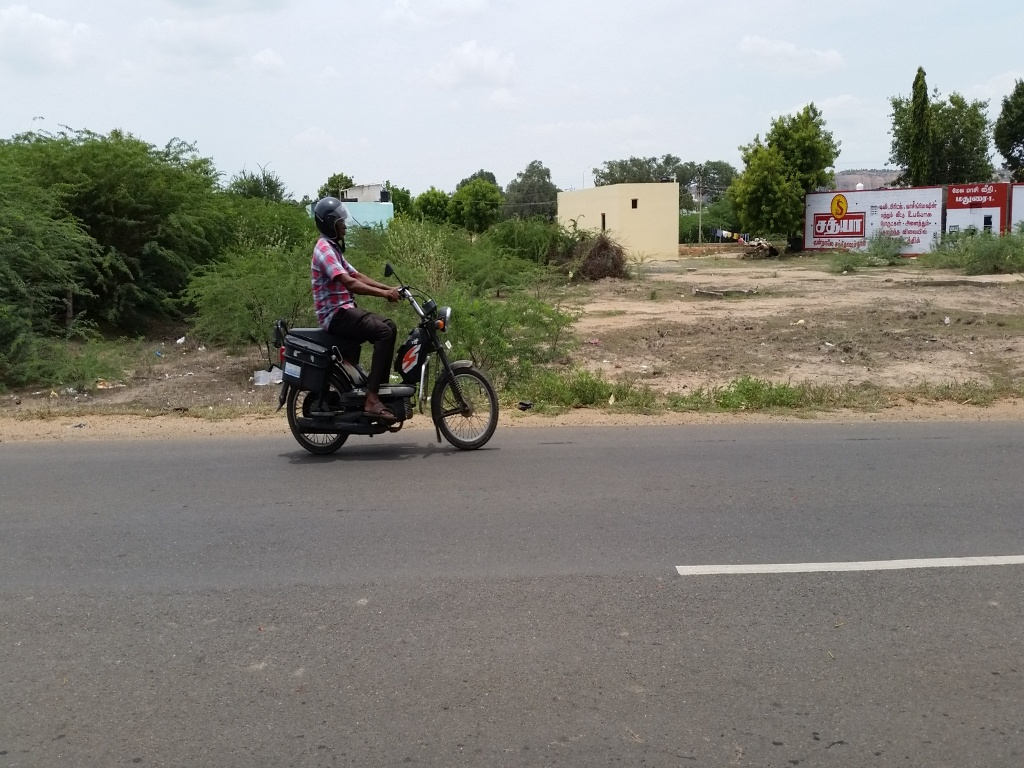biker: (255, 165, 521, 470)
helmet: (306, 186, 361, 251)
